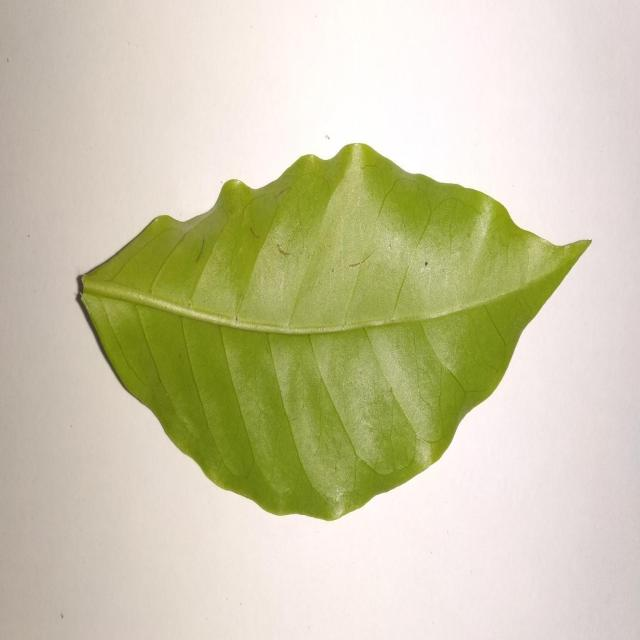Sanas: (76, 142, 592, 524)
